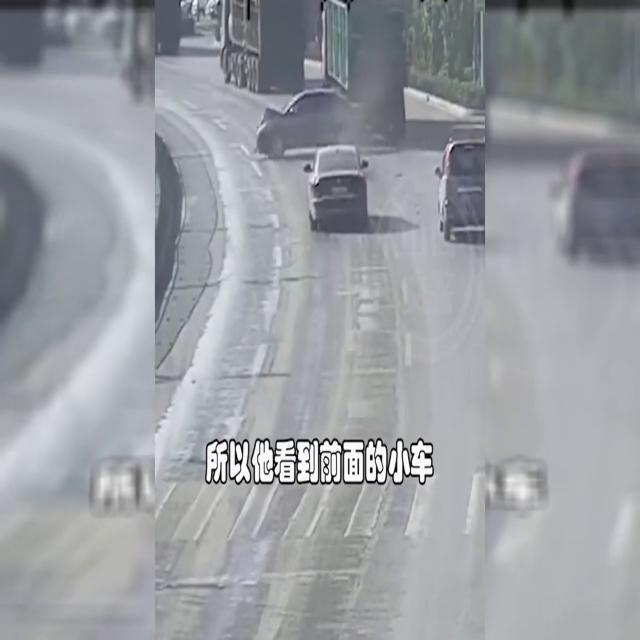accident: (257, 0, 407, 162)
